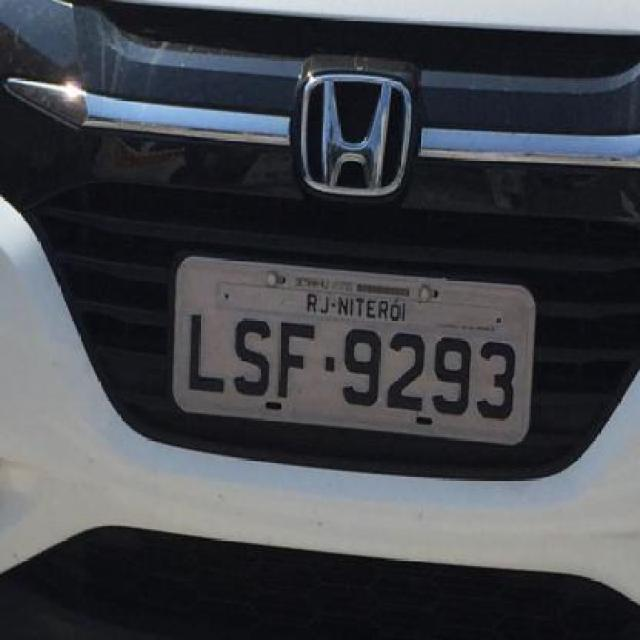old_plate: (165, 249, 540, 451)
